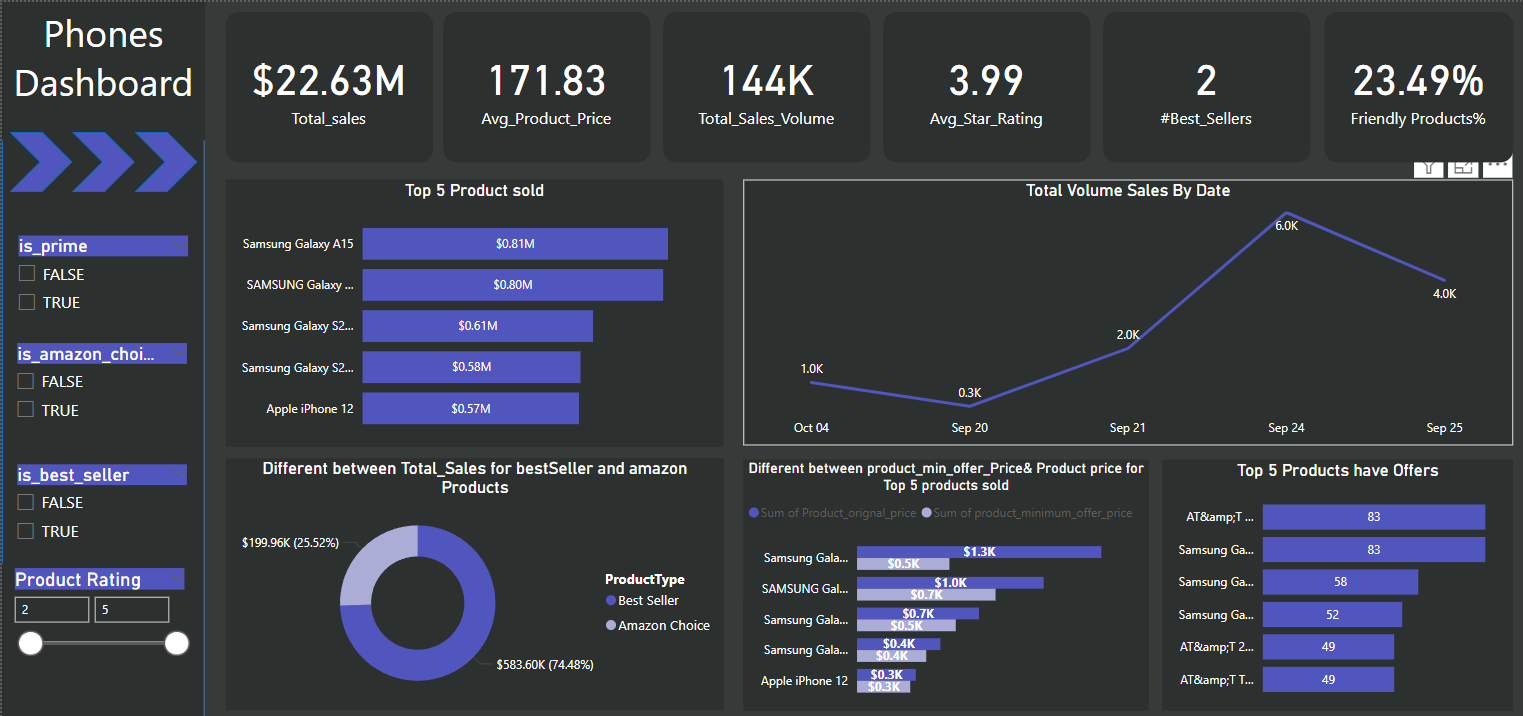

What the dashboard file says about the page in this screenshot:
{"tool":"powerbi","page":{"name":"Page 1","canvas":[1530,720],"ordinal":0},"visuals":[{"type":"shape","box":[0,0,202.5,720],"z":0},{"type":"card","fields":{"Values":["Measure_Table.Total_sales"]},"box":[223.8,10,207.5,150],"z":1000},{"type":"clusteredBarChart","title":"Top 5 Product sold","fields":{"Category":["phone search.product_Name"],"Y":["Measure_Table.Total_sales"]},"box":[223.8,177.5,497.5,267.5],"z":2000},{"type":"lineChart","title":"Total Volume Sales By Date","fields":{"Y":["Measure_Table.Total_Sales_Volume"],"Category":["phone search.MonthDay"]},"box":[741.4,177.1,770,267.1],"z":3000},{"type":"clusteredBarChart","title":"Different between product_min_offer_Price& Product price for Top 5 products sold","fields":{"Category":["phone search.product_Name"],"Y":["Sum(phone search.Product_orignal_price)","Sum(phone search.product_minimum_offer_price)"]},"box":[741.4,457.1,405.7,251.4],"z":4000},{"type":"clusteredBarChart","title":"Top 5 Products have Offers","fields":{"Category":["phone search.product_Name"],"Y":["Measure_Table.Num_of_offers"]},"box":[1160,457.1,351.4,251.4],"z":5000},{"type":"card","fields":{"Values":["Measure_Table.Avg_Product_Price"]},"box":[441.2,10,207.5,150],"z":6000},{"type":"card","fields":{"Values":["Measure_Table.Total_Sales_Volume"]},"box":[661.2,10,207.5,150],"z":7000},{"type":"card","fields":{"Values":["Measure_Table.Avg_Star_Rating"]},"box":[881.2,10,207.5,150],"z":8000},{"type":"card","fields":{"Values":["Measure_Table.#Best_Sellers"]},"box":[1101.2,10,207.5,150],"z":9000},{"type":"card","fields":{"Values":["Measure_Table.Percentage Friendly Products"]},"box":[1322.5,10,188.8,150],"z":10000},{"type":"donutChart","title":"Different between Total_Sales for bestSeller and amazon Products","fields":{"Y":["Measure_Table.Total_sales"],"Category":["phone search.ProductType"]},"box":[223.3,456.7,498.3,251.7],"z":11000},{"type":"textbox","box":[0,0,202.9,138.6],"z":12000},{"type":"shape","box":[7.1,130,62.9,60],"z":13000},{"type":"shape","box":[70,130,62.9,60],"z":14000},{"type":"shape","box":[132.9,130,62.9,60],"z":15000},{"type":"slicer","fields":{"Values":["phone search.is_prime"]},"box":[4.3,228.6,195.7,94.3],"z":16000},{"type":"slicer","fields":{"Values":["phone search.is_amazon_choice"]},"box":[2.9,335.7,195.7,92.9],"z":17000},{"type":"slicer","fields":{"Values":["phone search.is_best_seller"]},"box":[2.9,457.1,195.7,92.9],"z":18000},{"type":"slicer","fields":{"Values":["phone search.product_star_rating"]},"box":[0,561.4,195.7,158.6],"z":19000}]}

Visuals, with their boxes in screenshot pixels (x1, y1, x2, y2), scaled from the page's 1530x720 canvas onto the 1523x716 screenshot:
shape: Rect(0, 0, 202, 715)
card - Measure_Table.Total_sales: Rect(223, 10, 429, 159)
"Top 5 Product sold" clusteredBarChart: Rect(223, 177, 718, 443)
"Total Volume Sales By Date" lineChart: Rect(738, 176, 1504, 442)
"Different between product_min_offer_Price& Product price for Top 5 products sold" clusteredBarChart: Rect(738, 455, 1142, 705)
"Top 5 Products have Offers" clusteredBarChart: Rect(1155, 455, 1504, 705)
card - Measure_Table.Avg_Product_Price: Rect(439, 10, 646, 159)
card - Measure_Table.Total_Sales_Volume: Rect(658, 10, 865, 159)
card - Measure_Table.Avg_Star_Rating: Rect(877, 10, 1084, 159)
card - Measure_Table.#Best_Sellers: Rect(1096, 10, 1303, 159)
card - Measure_Table.Percentage Friendly Products: Rect(1316, 10, 1504, 159)
"Different between Total_Sales for bestSeller and amazon Products" donutChart: Rect(222, 454, 718, 704)
textbox: Rect(0, 0, 202, 138)
shape: Rect(7, 129, 70, 189)
shape: Rect(70, 129, 132, 189)
shape: Rect(132, 129, 195, 189)
slicer - phone search.is_prime: Rect(4, 227, 199, 321)
slicer - phone search.is_amazon_choice: Rect(3, 334, 198, 426)
slicer - phone search.is_best_seller: Rect(3, 455, 198, 547)
slicer - phone search.product_star_rating: Rect(0, 558, 195, 715)
